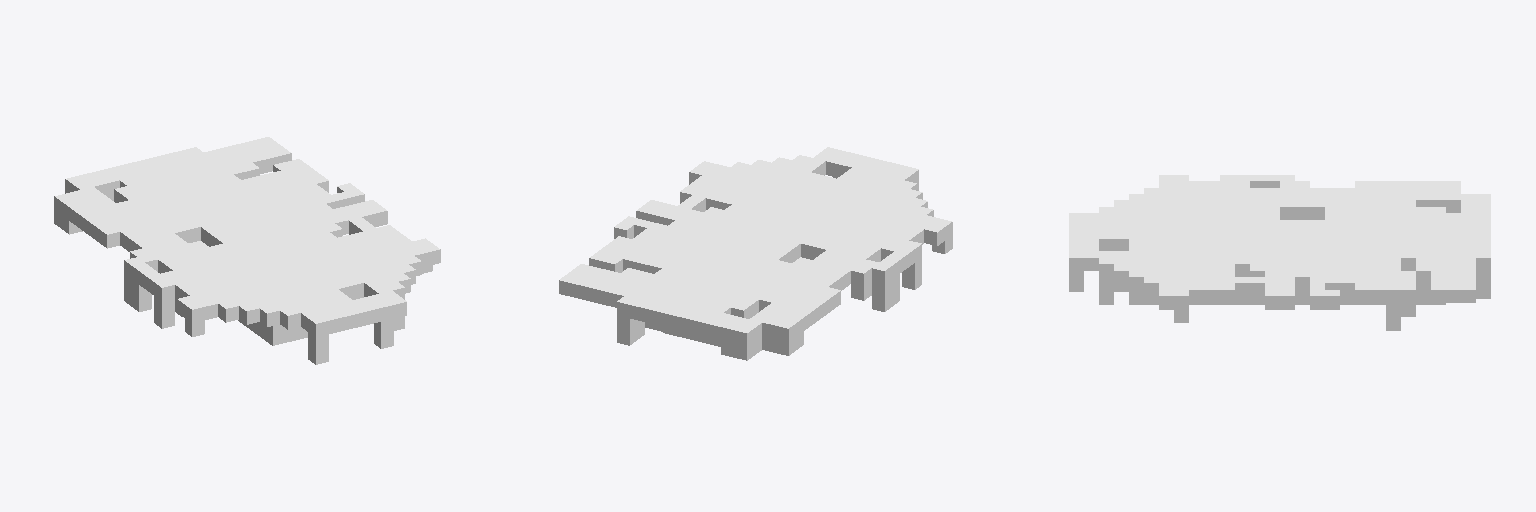
The model's file is plant4.obj.
3 renders of one model, left to right at view 1: azimuth 30°, elevation 25°; view 2: azimuth 150°, elevation 25°; view 3: azimuth 270°, elevation 25°, orthographic.
Size of the model in its own units: 19 by 3 by 28.